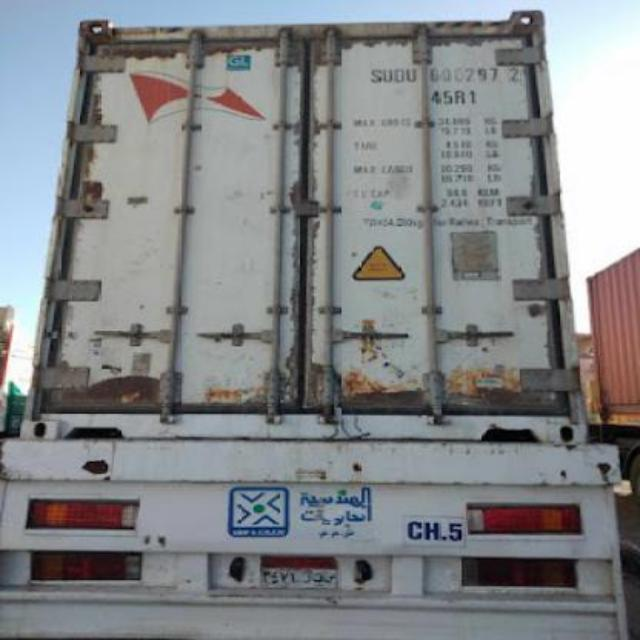0: (452, 68, 464, 80), (442, 68, 452, 80)
2: (464, 66, 476, 82), (510, 68, 518, 80)
6: (428, 68, 440, 80)
7: (488, 66, 498, 82)
9: (478, 69, 488, 81)
D: (394, 70, 404, 82)
S: (368, 68, 380, 82)
U: (382, 68, 394, 82), (406, 68, 416, 82)
